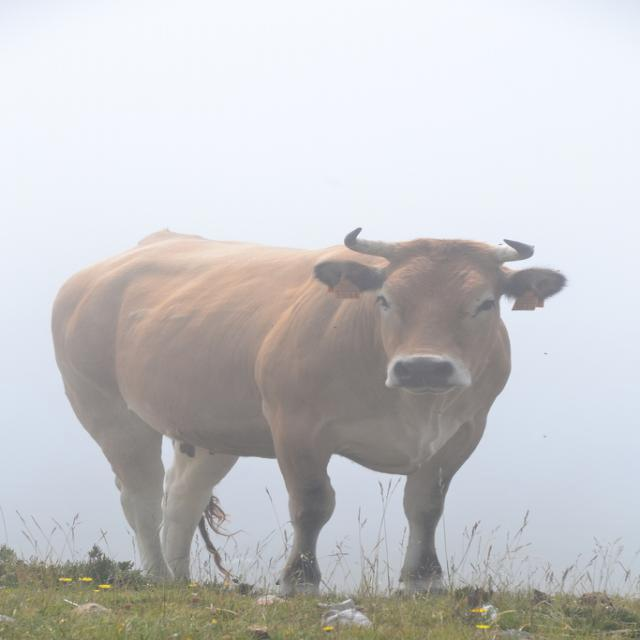cow: (52, 229, 565, 593)
